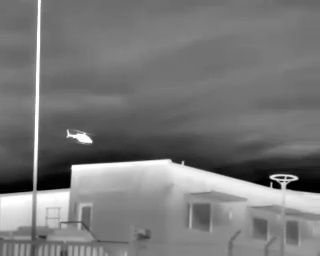HELICOPTER: (62, 123, 101, 152)
